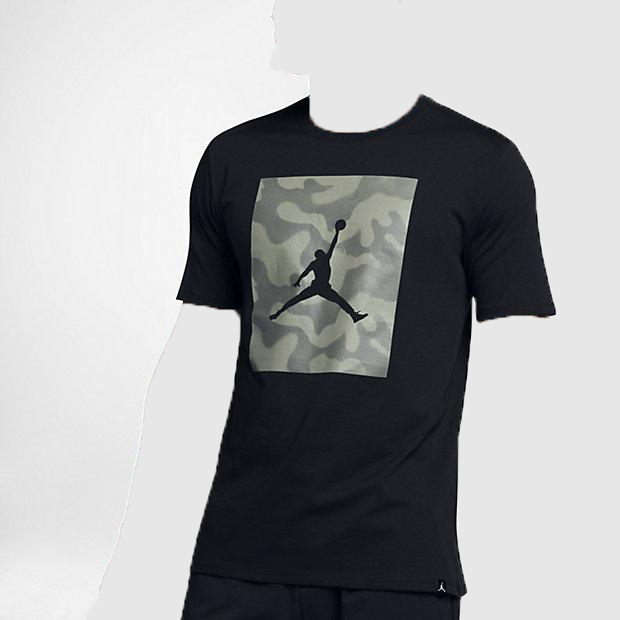teeshirt: (167, 92, 559, 605)
